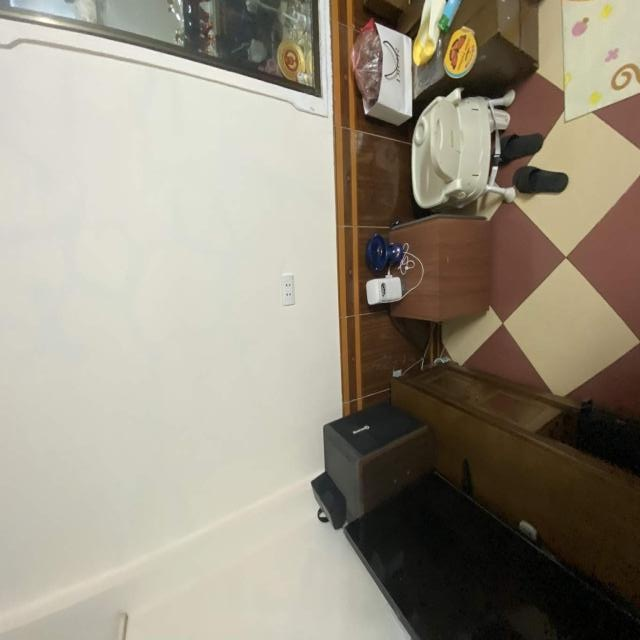outlet: (281, 274, 295, 307)
